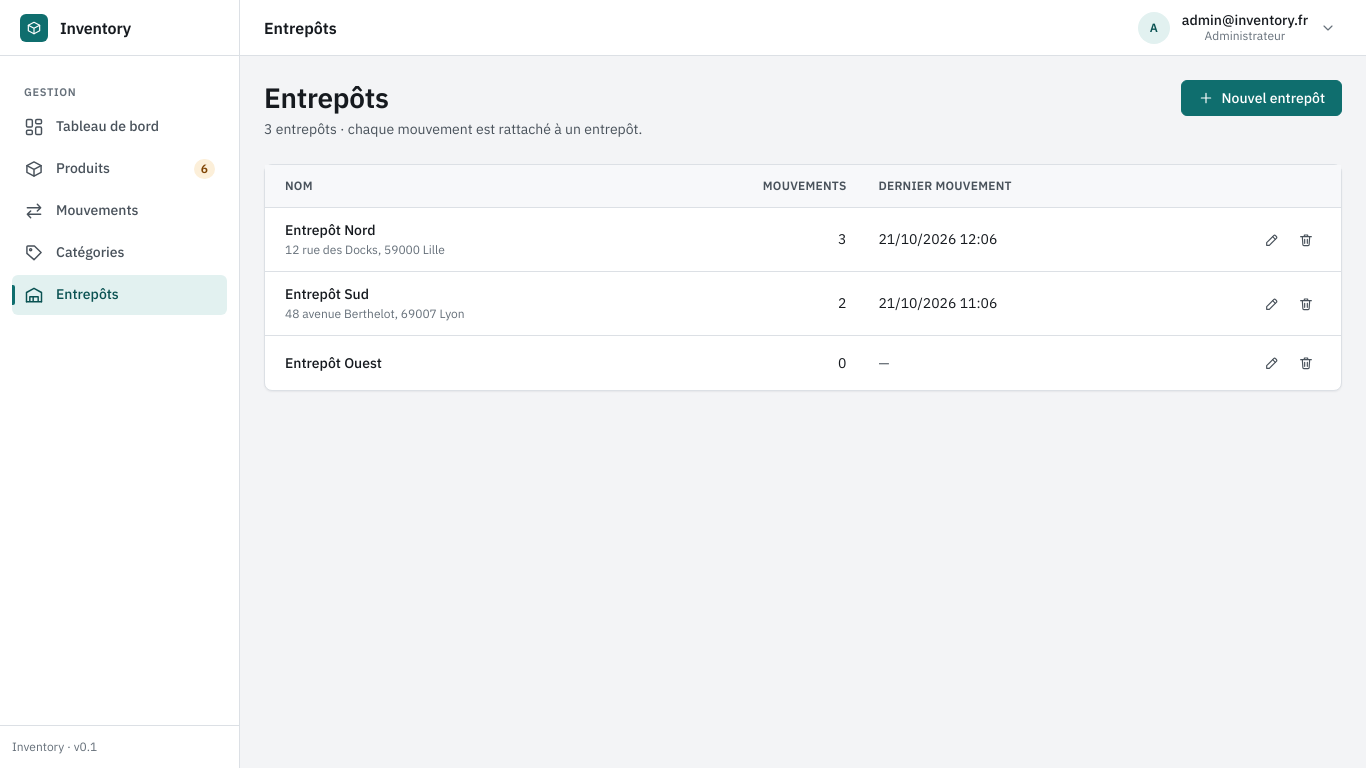
Scenario: WarehousesPage › table › links each warehouse to its movements
The width and height of the screenshot is (1366, 768).
Expected: the heading "Entrepôts" is shown, [264, 79, 389, 116]
Step 1. Click the link "Entrepôt Sud" → (327, 294), box [285, 285, 369, 303]
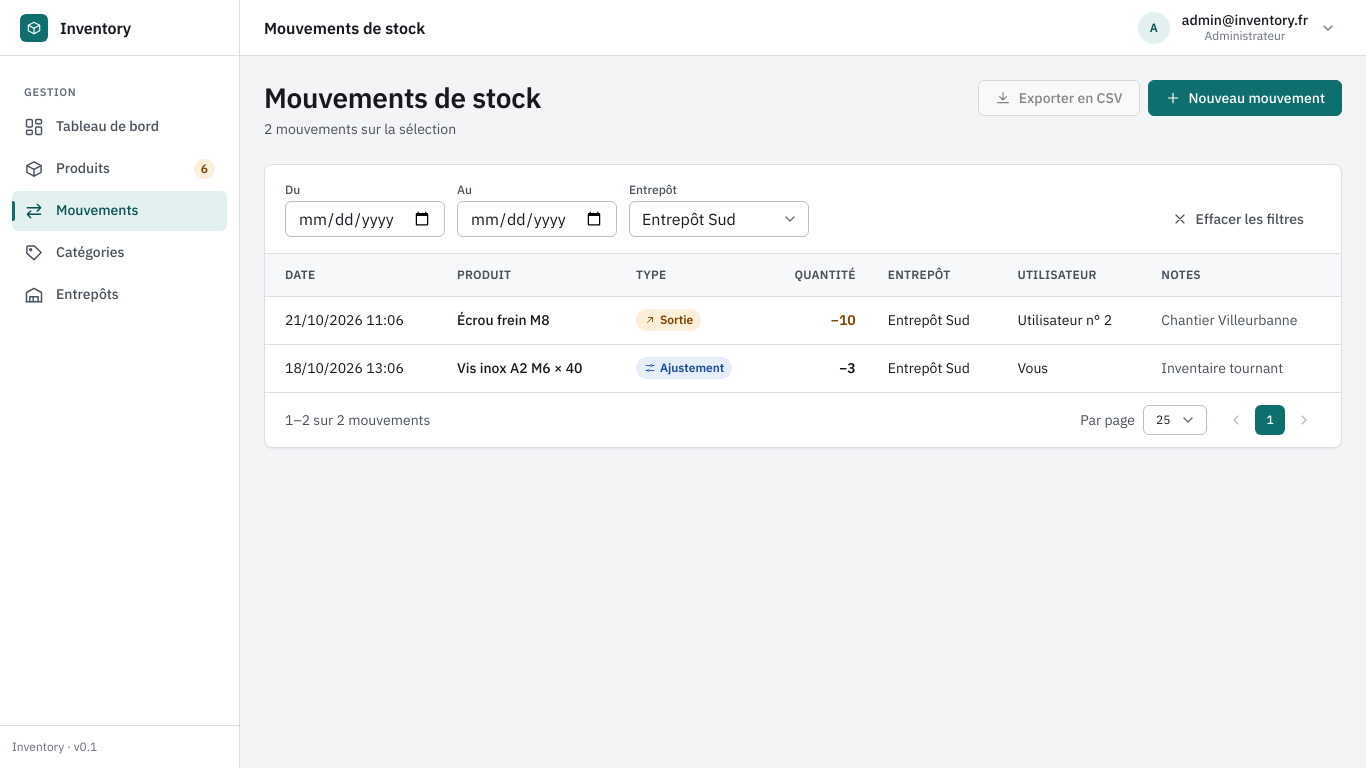
Expected: the heading "Mouvements de stock" is shown, [264, 80, 541, 115]
